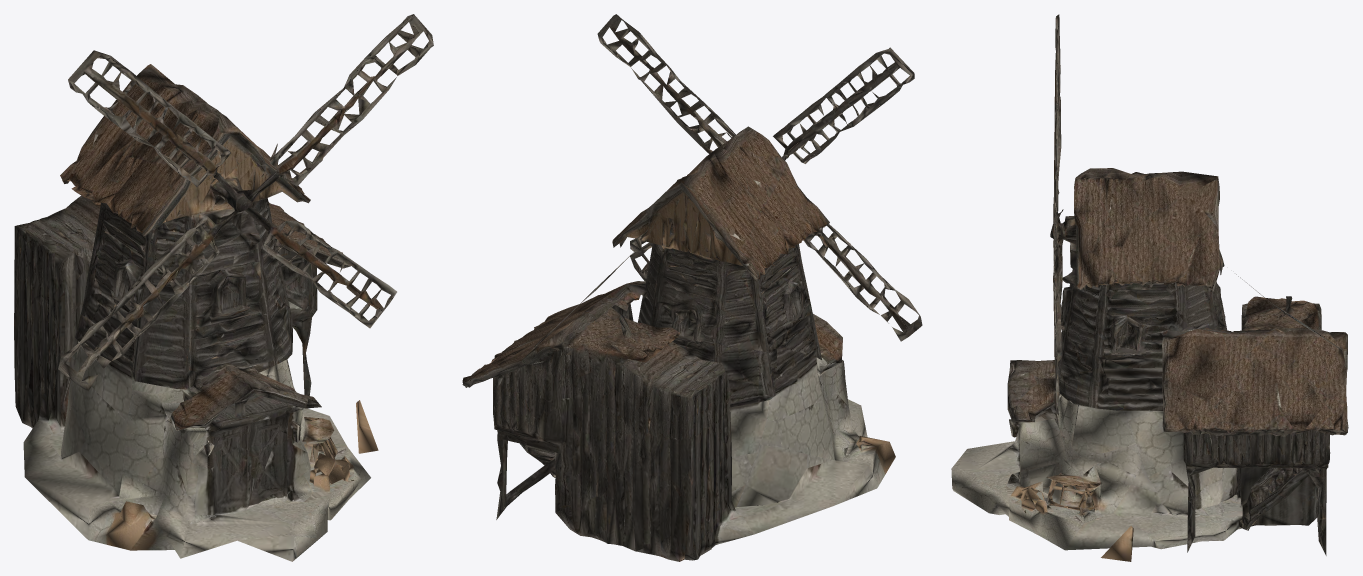
File: muehle.glb
3 views of the same model, side by side, from view 1: azimuth 30°, elevation 25°; view 2: azimuth 150°, elevation 25°; view 3: azimuth 270°, elevation 25° (orthographic). The views are drawn at different scales.
Size of the model in its own units: 1.48 by 1.89 by 1.61.
1 material, 1 textured.
